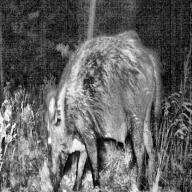boar: (43, 20, 167, 183)
